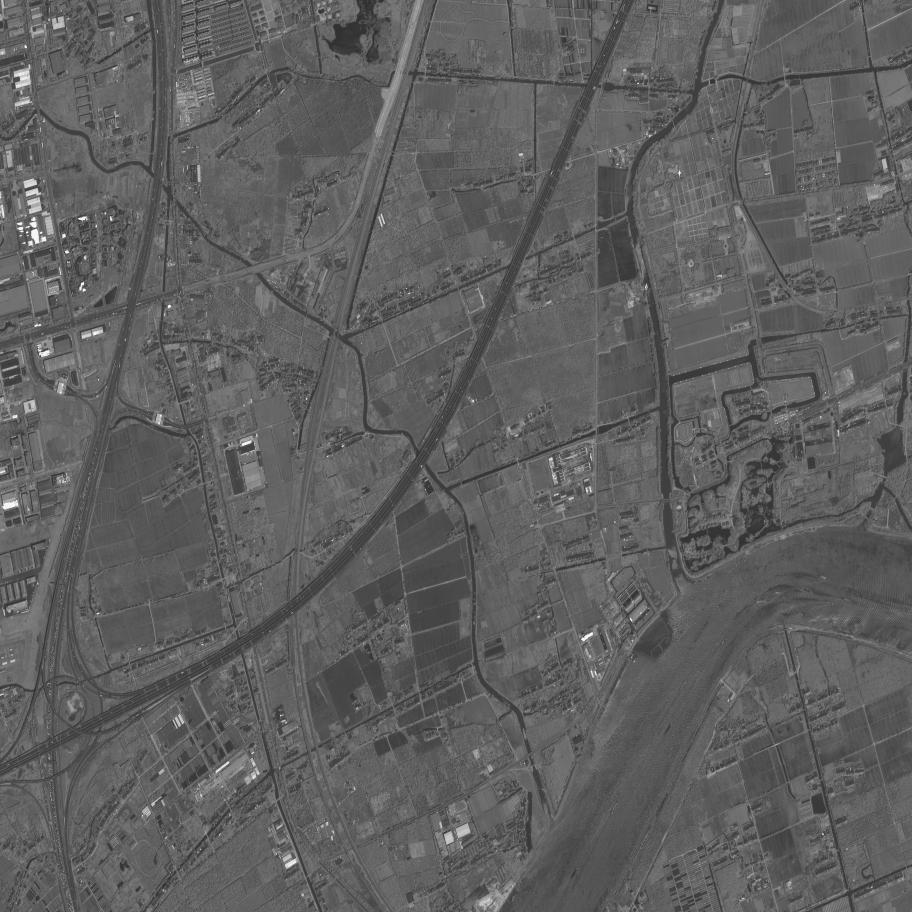ship: (663, 722, 672, 736), (610, 801, 619, 815), (679, 679, 688, 693), (570, 867, 579, 880), (799, 586, 813, 594), (817, 573, 830, 581), (688, 640, 697, 651), (710, 642, 718, 653), (841, 597, 851, 603), (721, 637, 728, 645), (825, 600, 834, 605), (772, 591, 783, 595), (756, 600, 766, 604), (798, 602, 805, 605)
